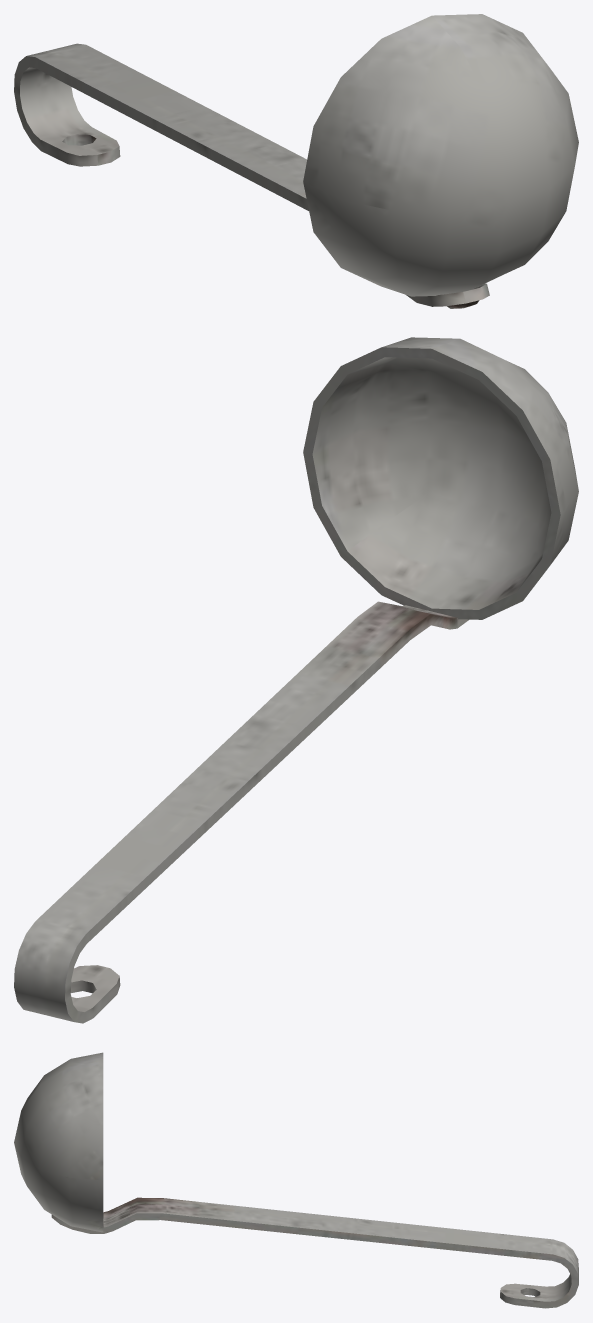
Rendered from ladle.glb.
3 views of the same model, one above another, from view 1: azimuth 30°, elevation 25°; view 2: azimuth 150°, elevation 25°; view 3: azimuth 270°, elevation 25° (orthographic). The views are drawn at different scales.
Parts seen in each view (by area): view 1: Ladle_A; view 2: Ladle_A; view 3: Ladle_A.
Part boxes in pixels (x1,y1,x2,y2): Ladle_A: (14, 14, 578, 308); Ladle_A: (14, 337, 578, 1023); Ladle_A: (14, 1052, 578, 1308).
Size of the model in its own units: 0.1612 by 0.2369 by 0.5052.
Materials: 1 (1 with a texture image).
